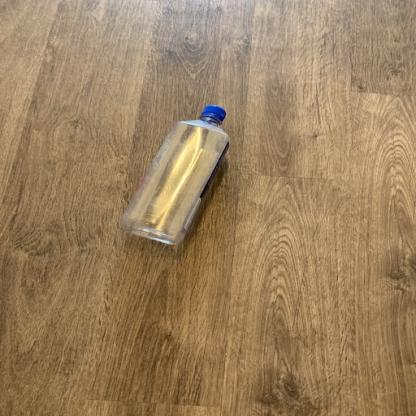trash: (125, 102, 233, 250)
